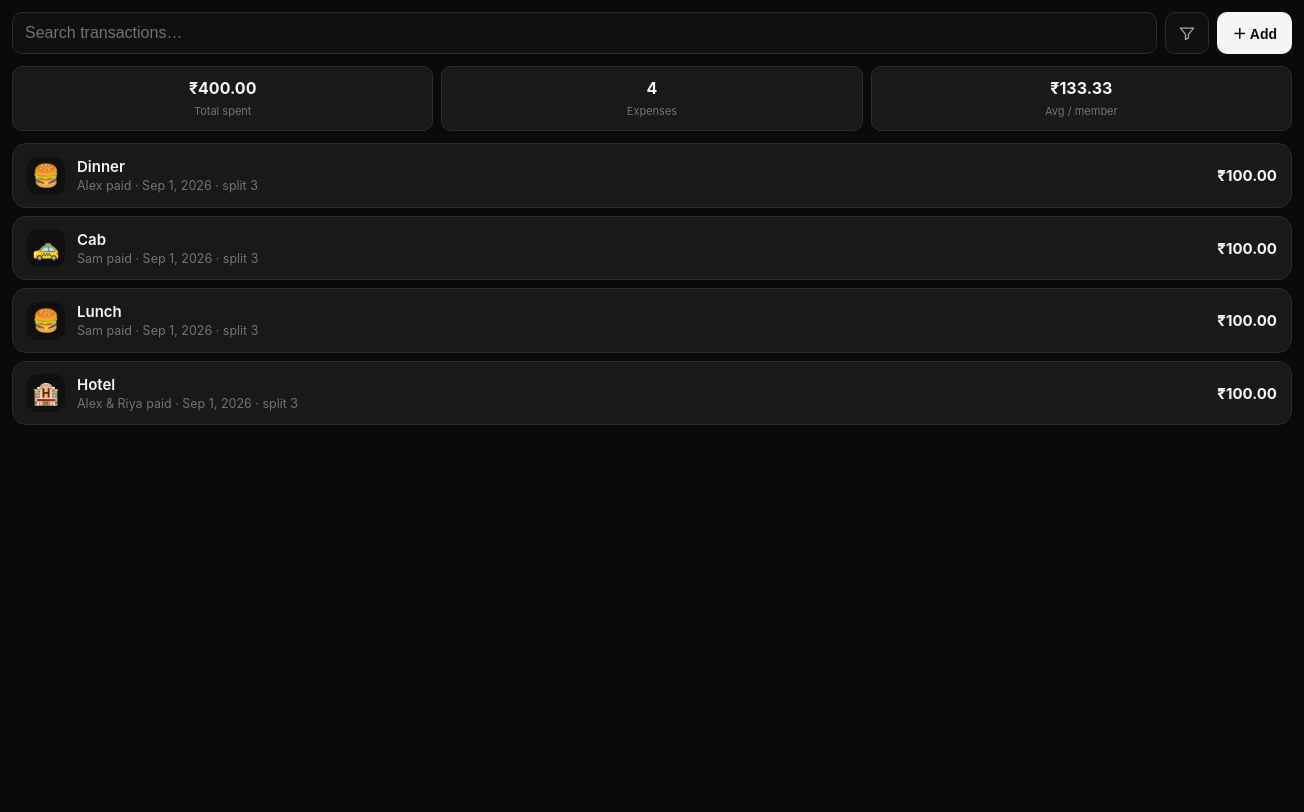
Scenario: TransactionsPanel filters › keeps the filters applied after the panel is closed
The image size is (1304, 812).
Click the button named "Filters". click: (1187, 33)
box: [1165,12,1209,54]
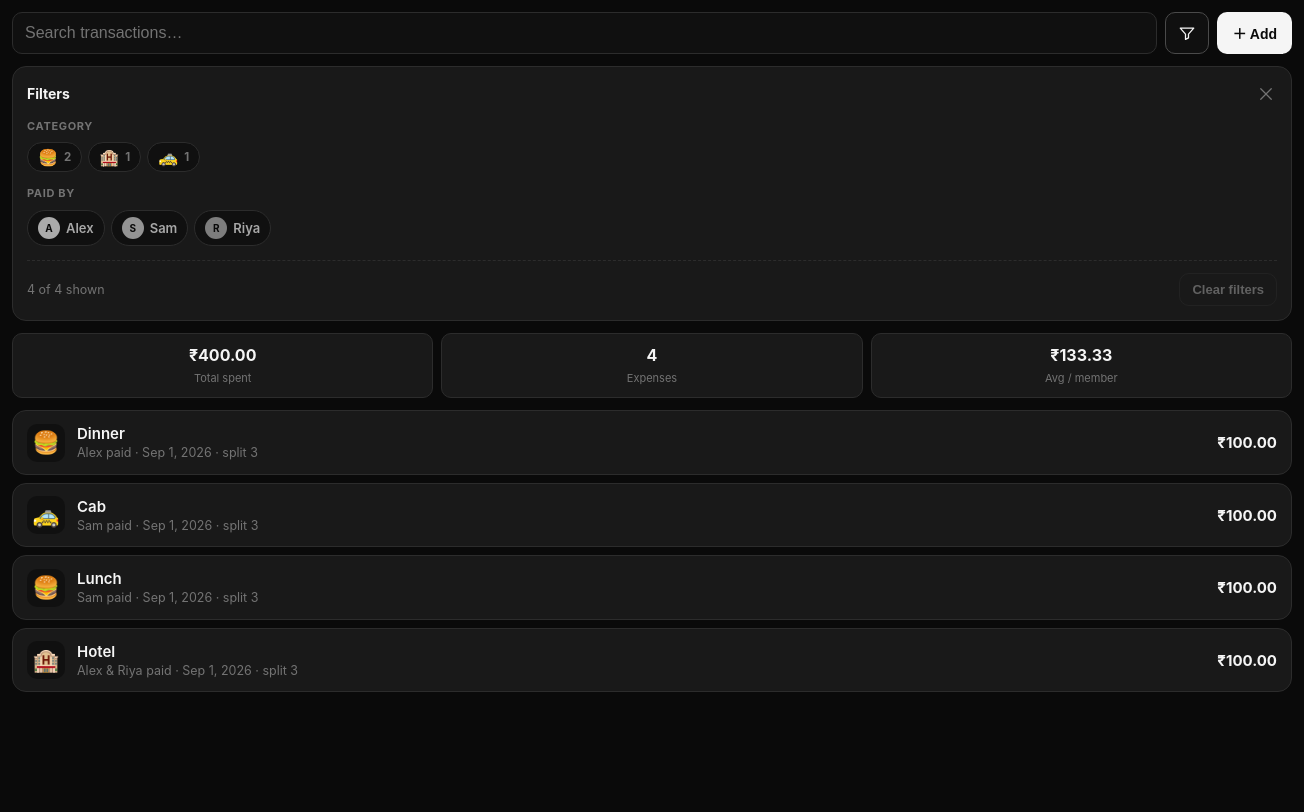
Click the button "🍔 2". click: (55, 157)
box: [27,142,82,172]
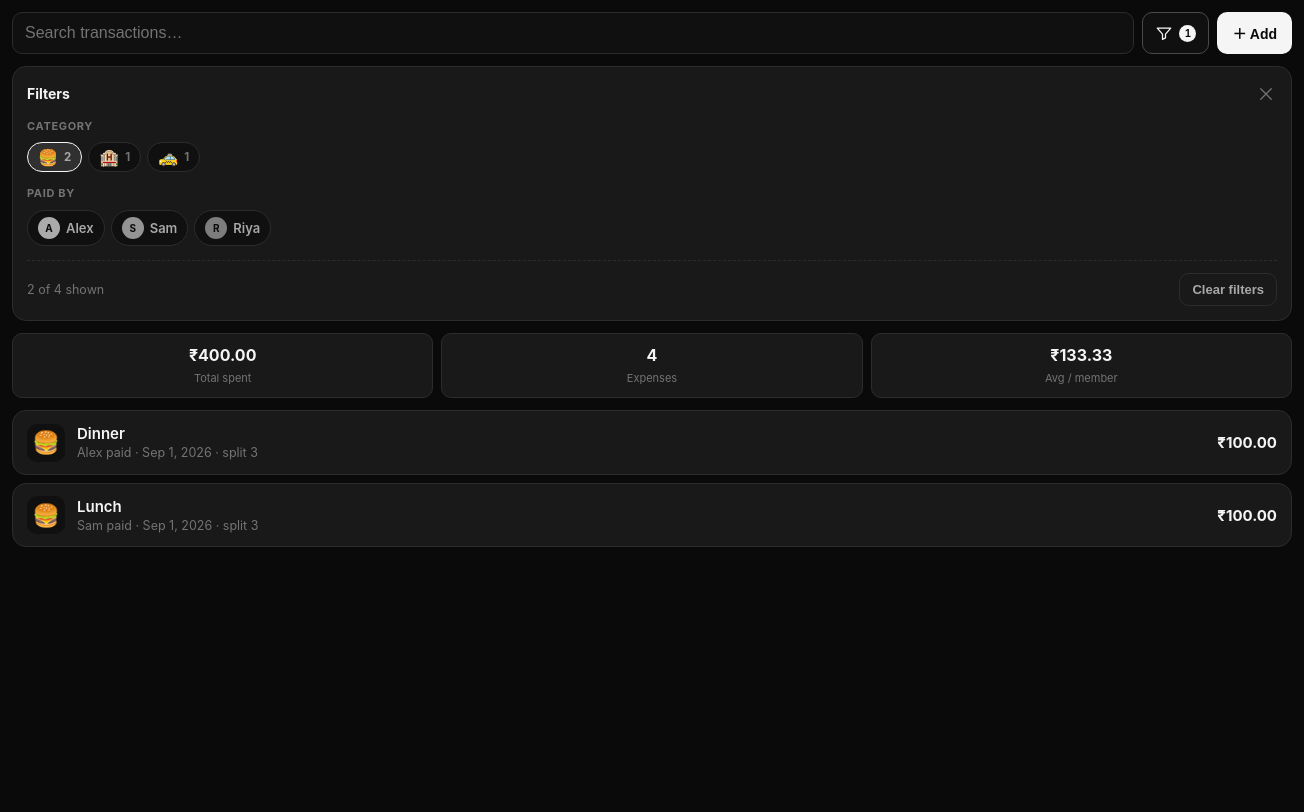
Click the button named "Close filters". click: (1266, 94)
box: [1247,75,1285,113]
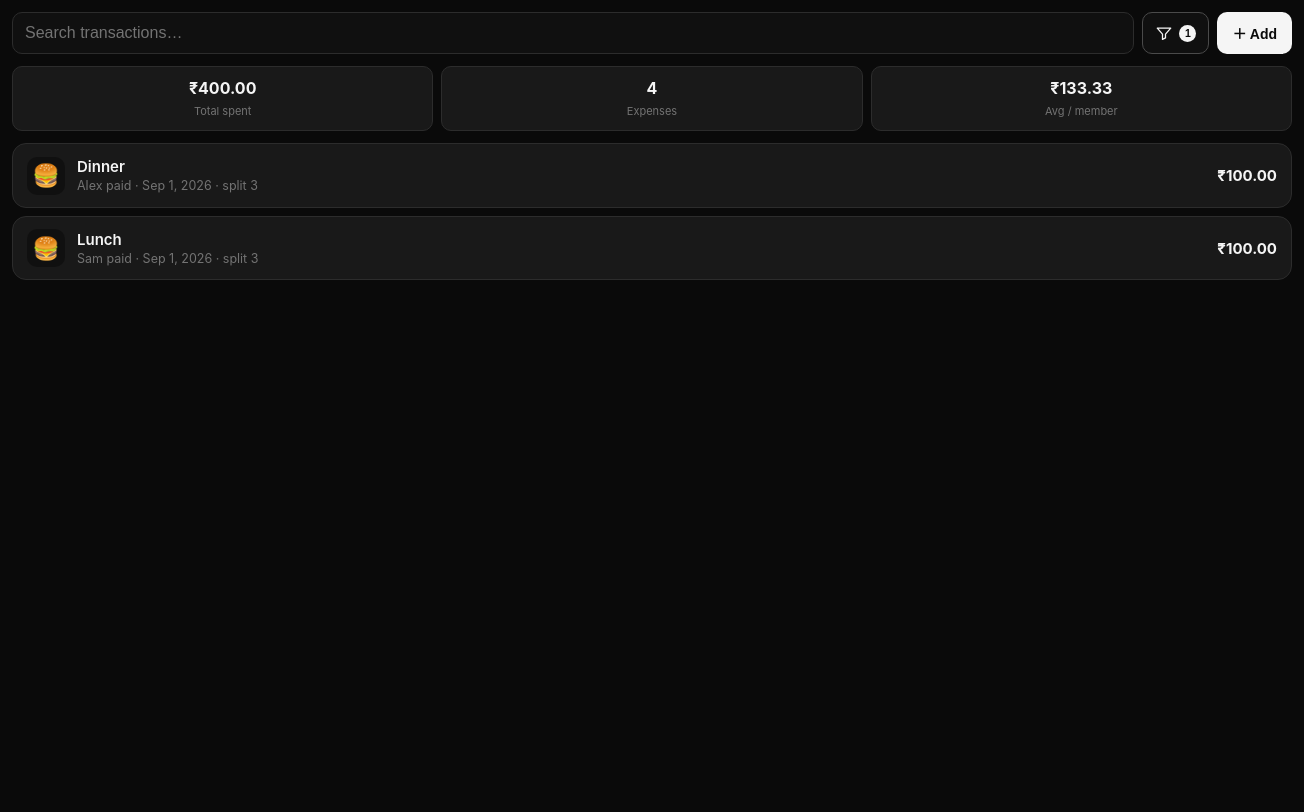
Expected: the text with class "filter-count" reads "1", [1185,27,1191,39]
Result: the text "Category" is gone
